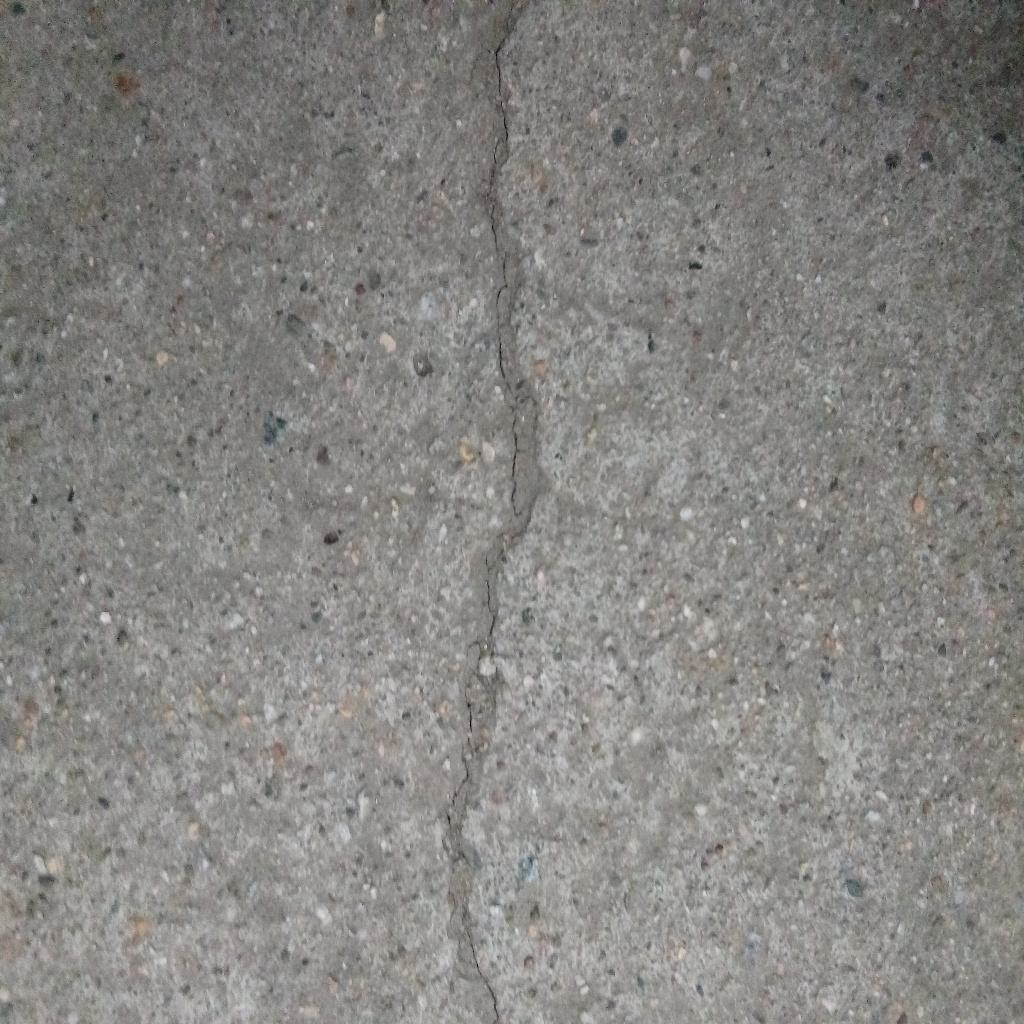Crack: (439, 1, 545, 1024)
